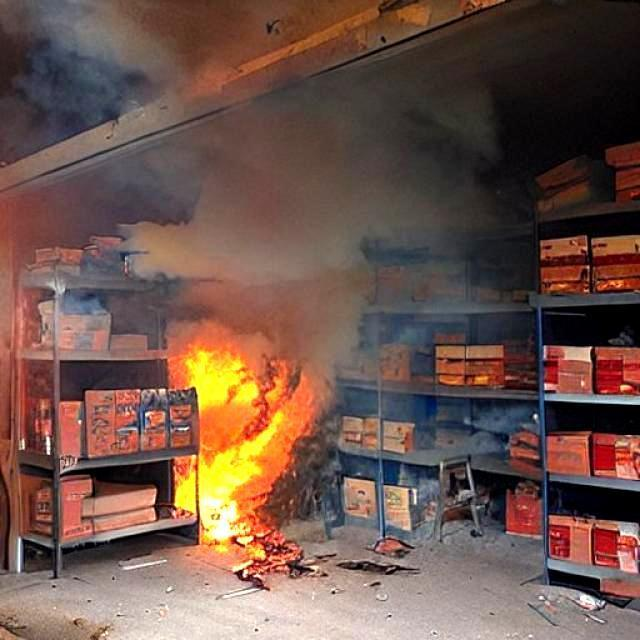Fire: (177, 342, 328, 556)
Smoke: (29, 9, 529, 325)
